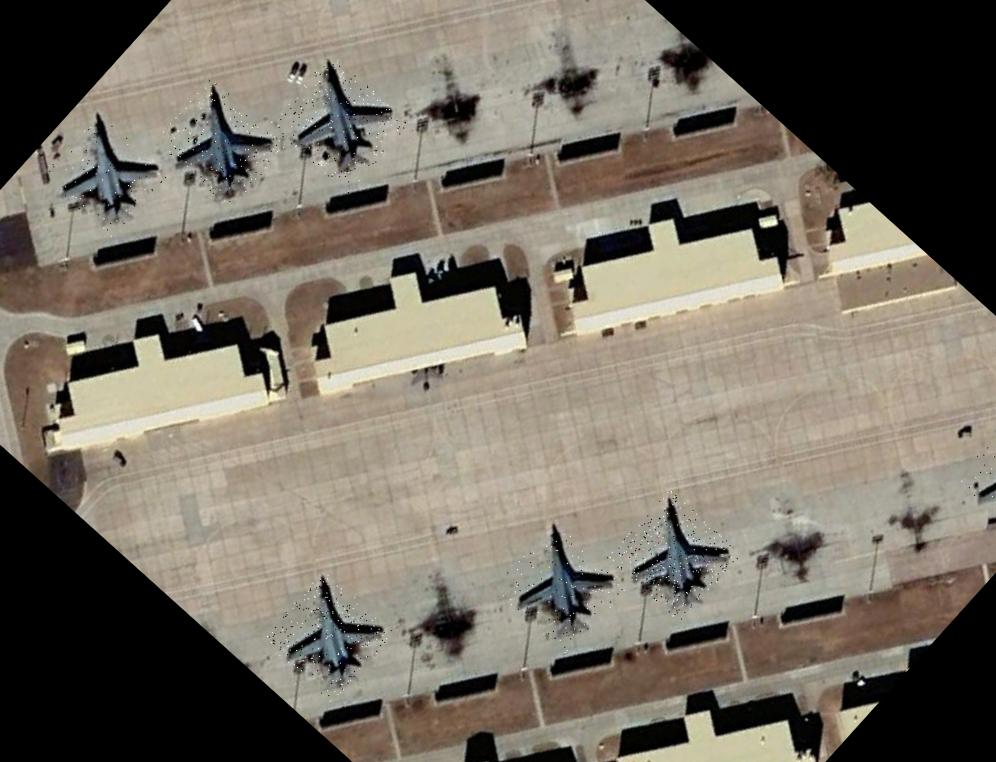A10: (268, 53, 410, 195), (493, 520, 630, 656), (606, 488, 741, 623), (261, 570, 394, 703), (154, 78, 286, 210), (41, 111, 170, 239), (953, 410, 996, 541)
